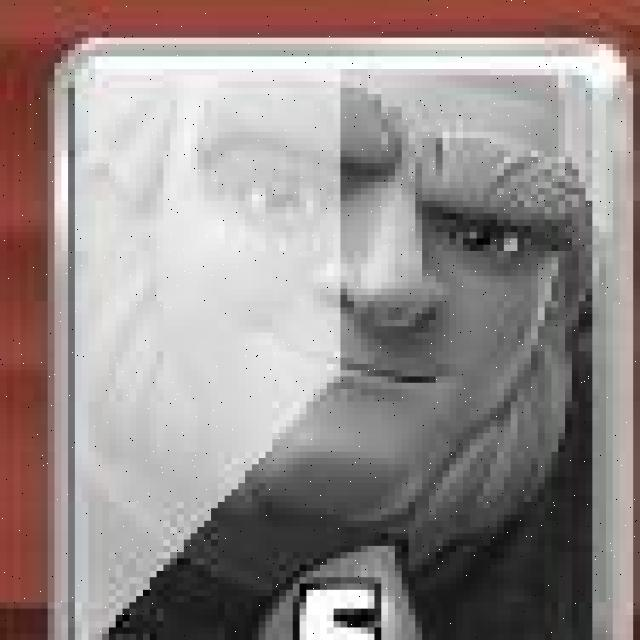Giant: (57, 37, 635, 640)
